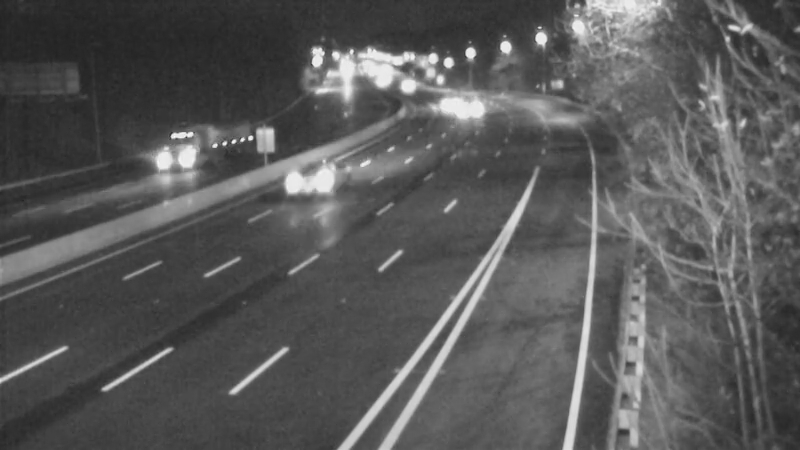vehicle: (278, 138, 358, 218), (155, 116, 235, 196), (375, 57, 425, 107), (420, 78, 470, 128), (449, 83, 499, 133)
